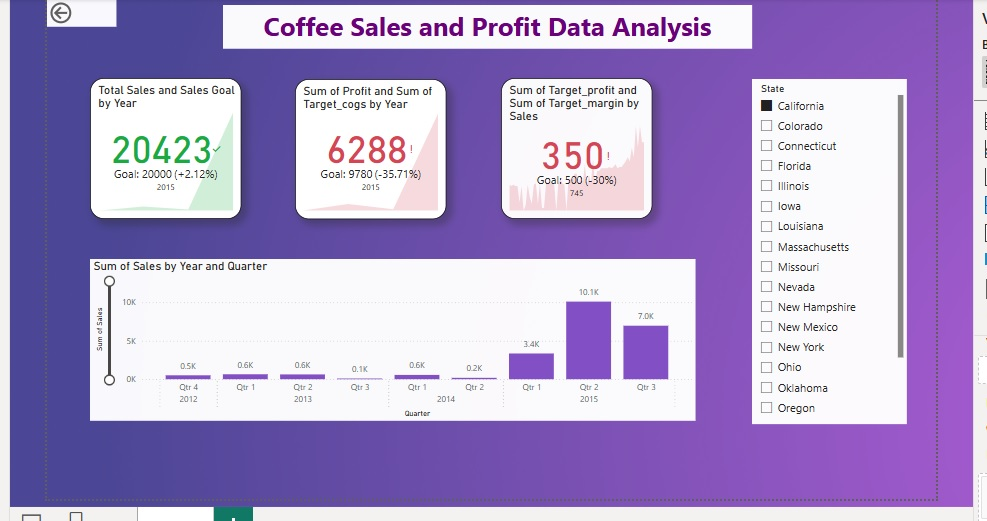

The page's visual inventory and layout, read from the dashboard file:
{"tool":"powerbi","page":{"name":"Page 1","canvas":[1280,720],"ordinal":0},"visuals":[{"type":"kpi","fields":{"Indicator":["Sum(Coffee_Chain_Sales.Sales)"],"TrendLine":["Coffee_Chain_Sales.Product"],"Goal":["Sum(Coffee_Chain_Sales.Margin)"]},"box":[62.2,114.2,218.4,203.3],"z":0},{"type":"kpi","fields":{"Indicator":["Sum(Coffee_Chain_Sales.Profit)"],"TrendLine":["Coffee_Chain_Sales.Product"],"Goal":["Sum(Coffee_Chain_Sales.Target_cogs)"]},"box":[357.8,115.9,218.4,201.6],"z":1},{"type":"kpi","fields":{"TrendLine":["Coffee_Chain_Sales.Sales"],"Indicator":["Sum(Coffee_Chain_Sales.Target_profit)"],"Goal":["Sum(Coffee_Chain_Sales.Target_margin)"]},"box":[653.4,114.2,218.4,203.3],"z":2},{"type":"slicer","fields":{"Values":["Coffee_Chain_Sales.State"]},"box":[1015,115,223.3,496.7],"z":3},{"type":"actionButton","box":[0,0,100,40],"z":4},{"type":"clusteredColumnChart","fields":{"Y":["Sum(Coffee_Chain_Sales.Sales)"],"Category":["Coffee_Chain_Sales.Date.Variation.Date Hierarchy.Year","Coffee_Chain_Sales.Date.Variation.Date Hierarchy.Quarter","Coffee_Chain_Sales.Date.Variation.Date Hierarchy.Month","Coffee_Chain_Sales.Date.Variation.Date Hierarchy.Day"]},"box":[61.7,375,871.7,233.3],"z":5},{"type":"textbox","box":[253.3,8.3,761.7,63.3],"z":7}]}

Visuals, with their boxes in screenshot pixels (x1, y1, x2, y2):
kpi - Sum(Coffee_Chain_Sales.Sales) x Coffee_Chain_Sales.Product: crop(92, 76, 242, 216)
kpi - Sum(Coffee_Chain_Sales.Profit) x Coffee_Chain_Sales.Product: crop(295, 77, 446, 216)
kpi - Coffee_Chain_Sales.Sales x Sum(Coffee_Chain_Sales.Target_profit): crop(499, 76, 650, 216)
slicer - Coffee_Chain_Sales.State: crop(749, 77, 902, 419)
actionButton: crop(49, 0, 118, 25)
clusteredColumnChart - Sum(Coffee_Chain_Sales.Sales) x Coffee_Chain_Sales.Date.Variation.Date Hierarchy.Year: crop(91, 256, 692, 417)
textbox: crop(223, 3, 749, 47)
